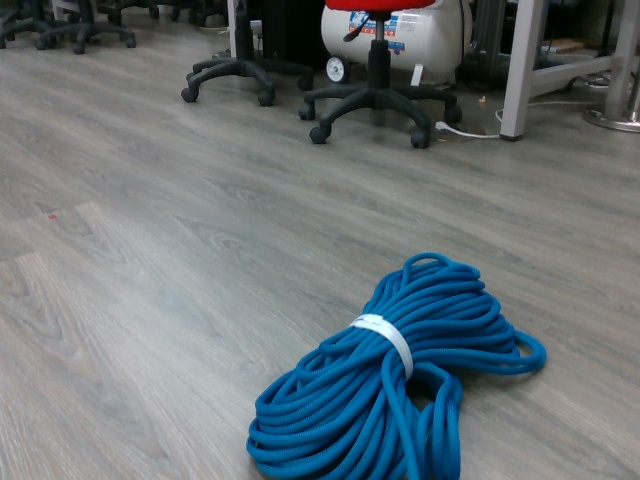rope: (244, 245, 553, 480)
